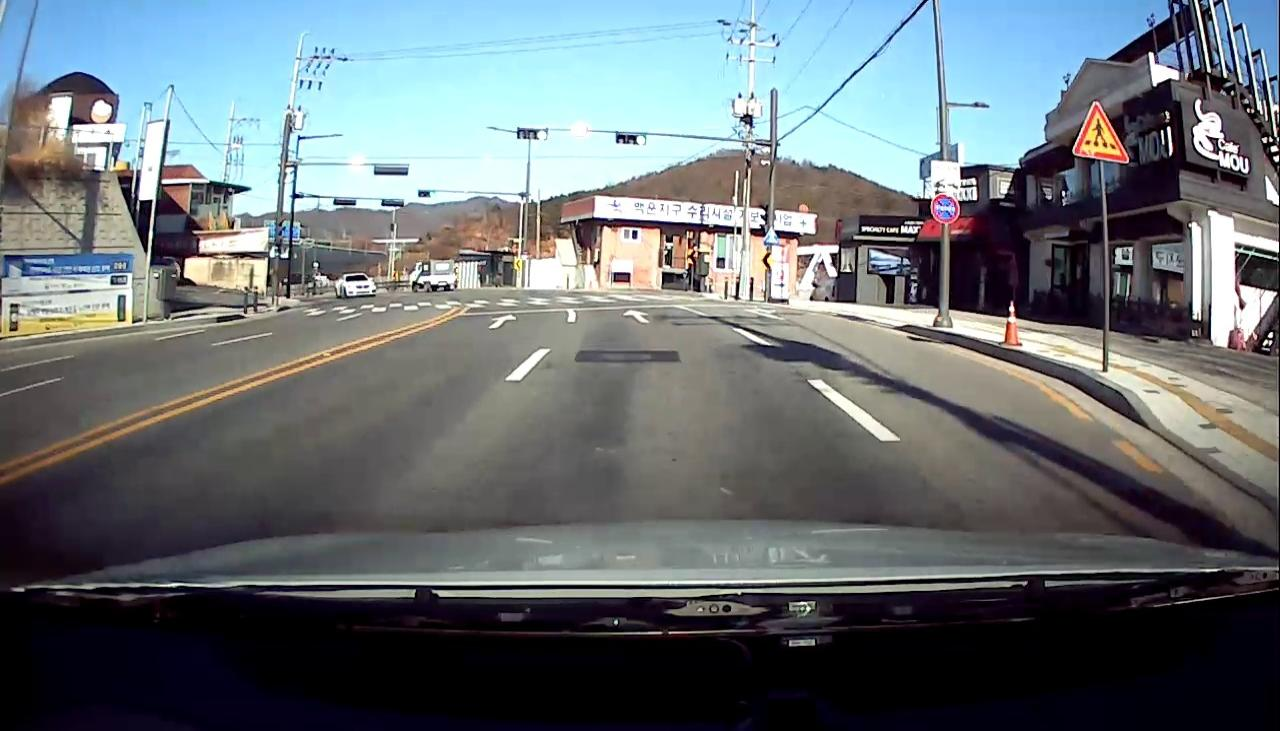Green Light: (536, 128, 548, 140), (634, 134, 646, 146), (428, 190, 436, 199)
